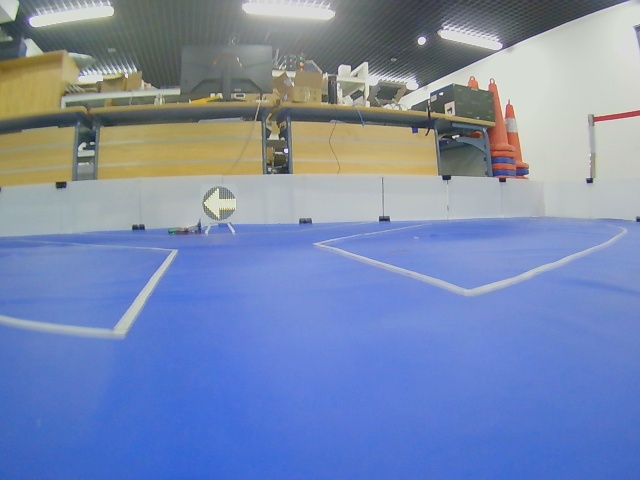left_yellow: (202, 186, 237, 222)
